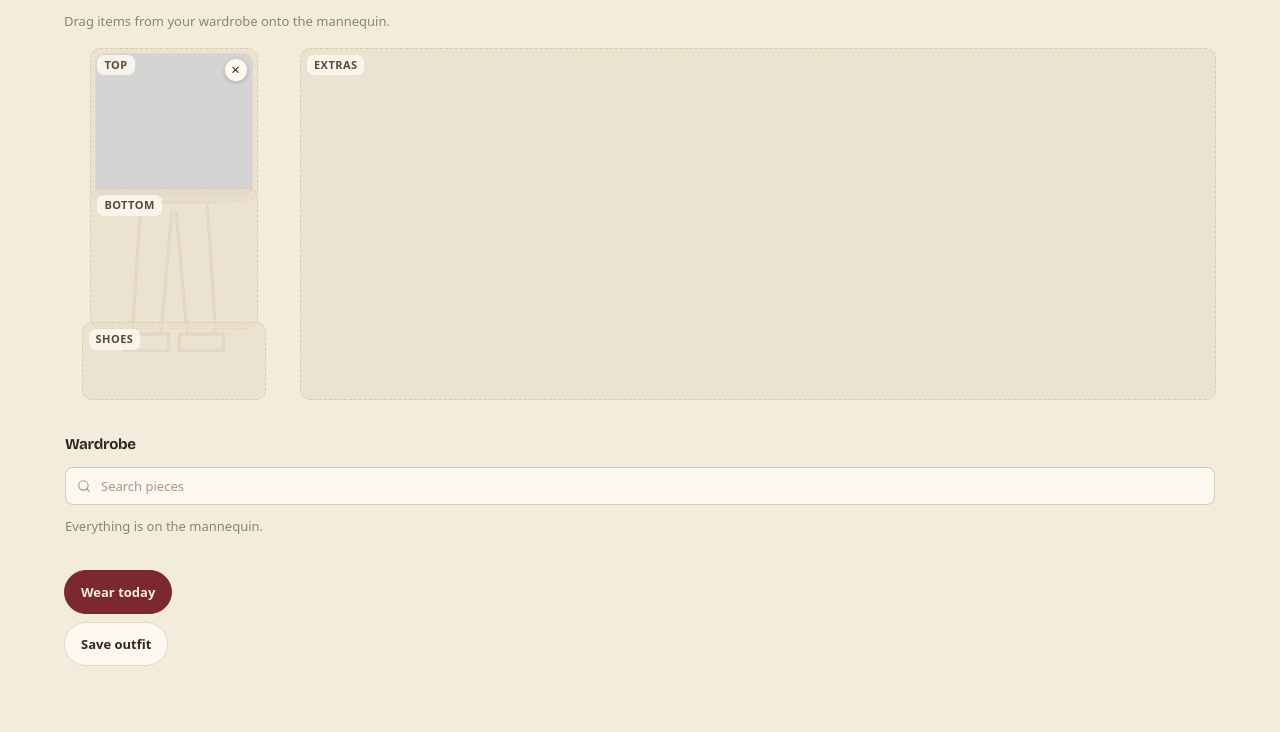
Assemble save-outfit › surfaces a retryable error banner when the save is rejected
Check: the text "Top" is shown, box [97,54,134,75]
Click the button "Save outfit" at {"x": 116, "y": 644}, box [64,622,168,666]
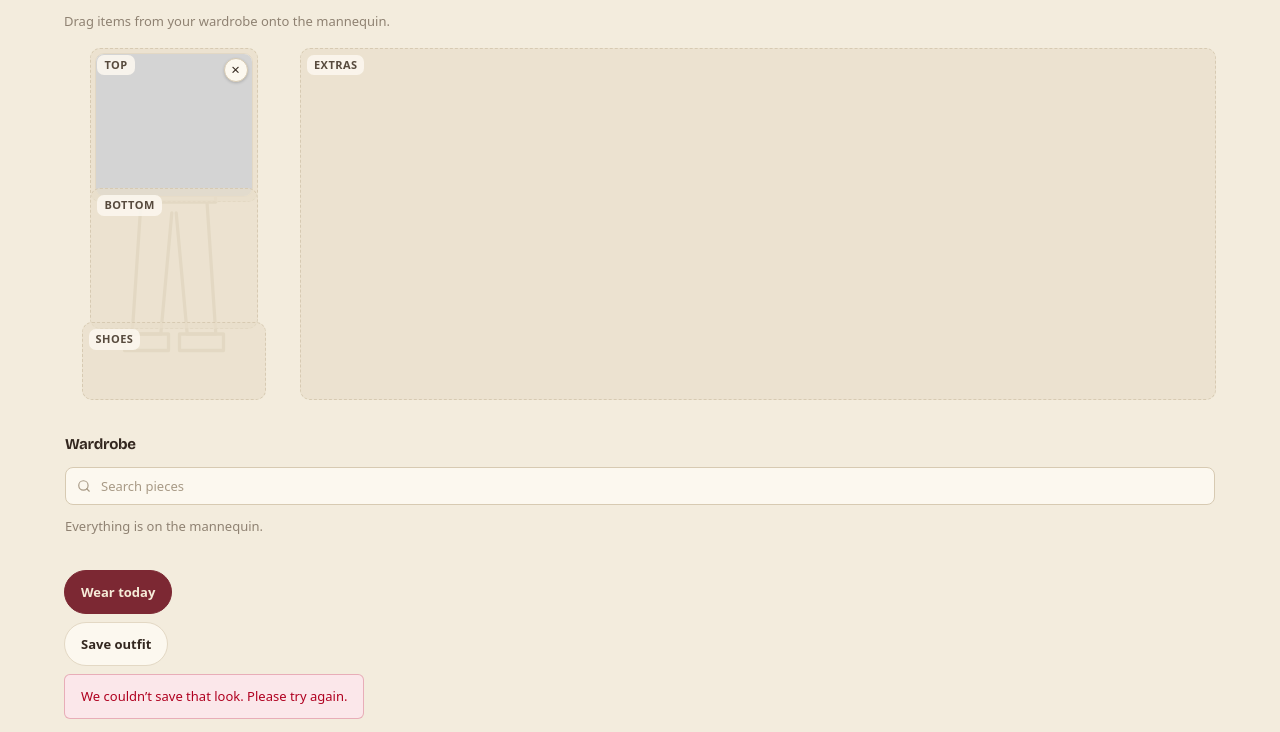
Check: the text "We couldn’t save that look. Please try again." is shown, box [64,674,364,719]
